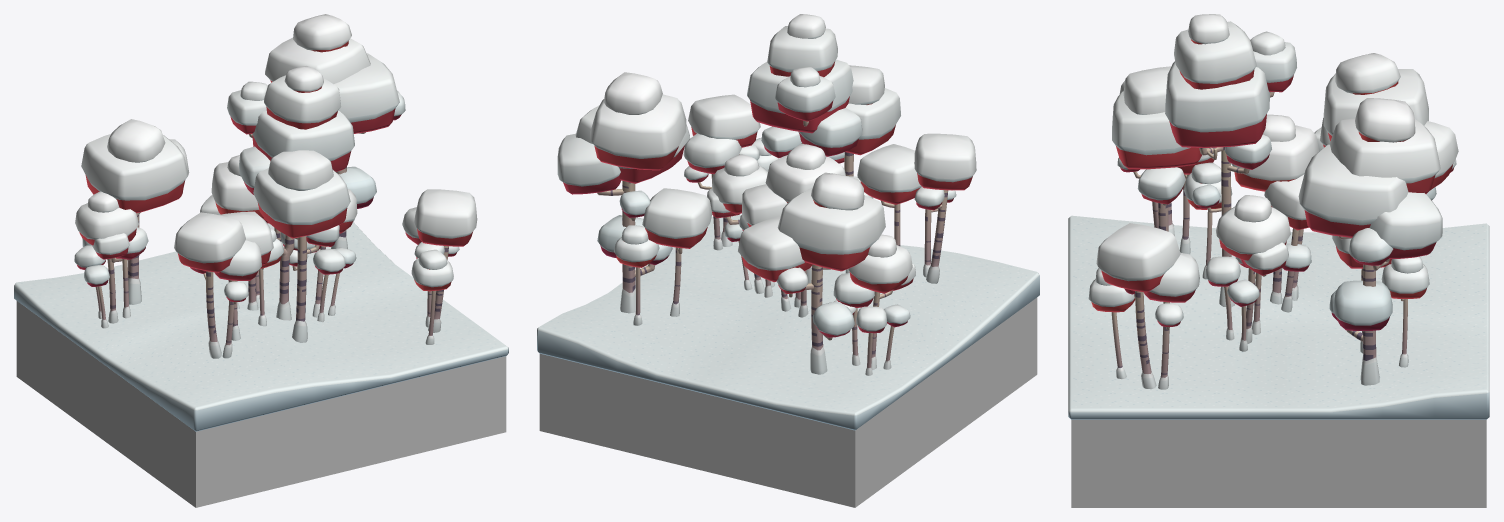
Rendered from island_winter.fbx.
The picture shows the model from 3 angles, left to right: view 1: azimuth 30°, elevation 25°; view 2: azimuth 150°, elevation 25°; view 3: azimuth 270°, elevation 25°; orthographic projection. The views are drawn at different scales.
Parts seen in each view (by area): view 1: birch_tree_snow, snow_top, ground_block_snow; view 2: birch_tree_snow, snow_top, ground_block_snow; view 3: birch_tree_snow, snow_top, ground_block_snow.
Part boxes in pixels (x1,y1,x2,y2): birch_tree_snow: (74,14,477,358); snow_top: (14,222,508,431); ground_block_snow: (16,301,506,507); birch_tree_snow: (557,14,976,375); snow_top: (537,214,1039,430); ground_block_snow: (539,297,1037,507); birch_tree_snow: (1088,14,1458,389); snow_top: (1068,215,1489,419); ground_block_snow: (1071,419,1486,507).
Bounding box in the file's own units: 1752 × 1742 × 1625.
